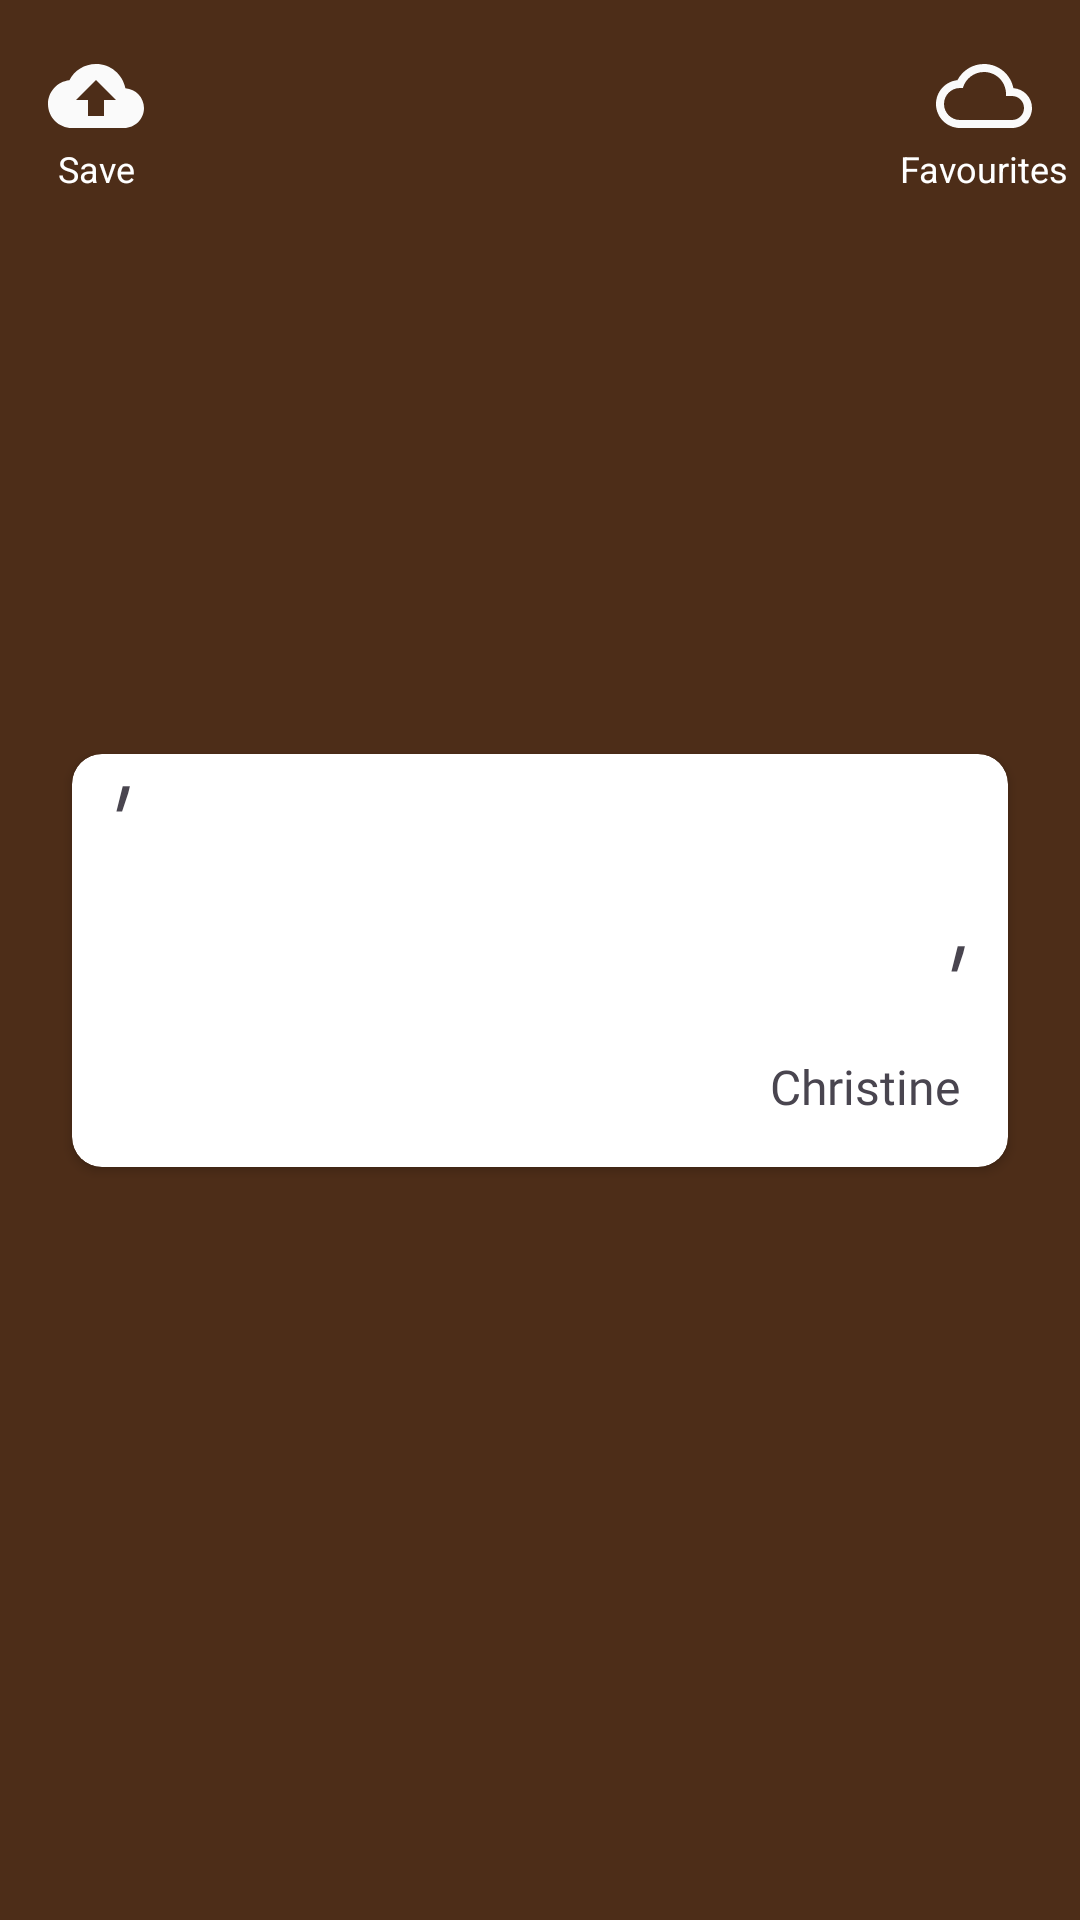

Where to tap for icons on this 1080*1920 app screen, as point (x, y):
cloud queue: point (984, 96)
cloud upload: point (96, 96)
